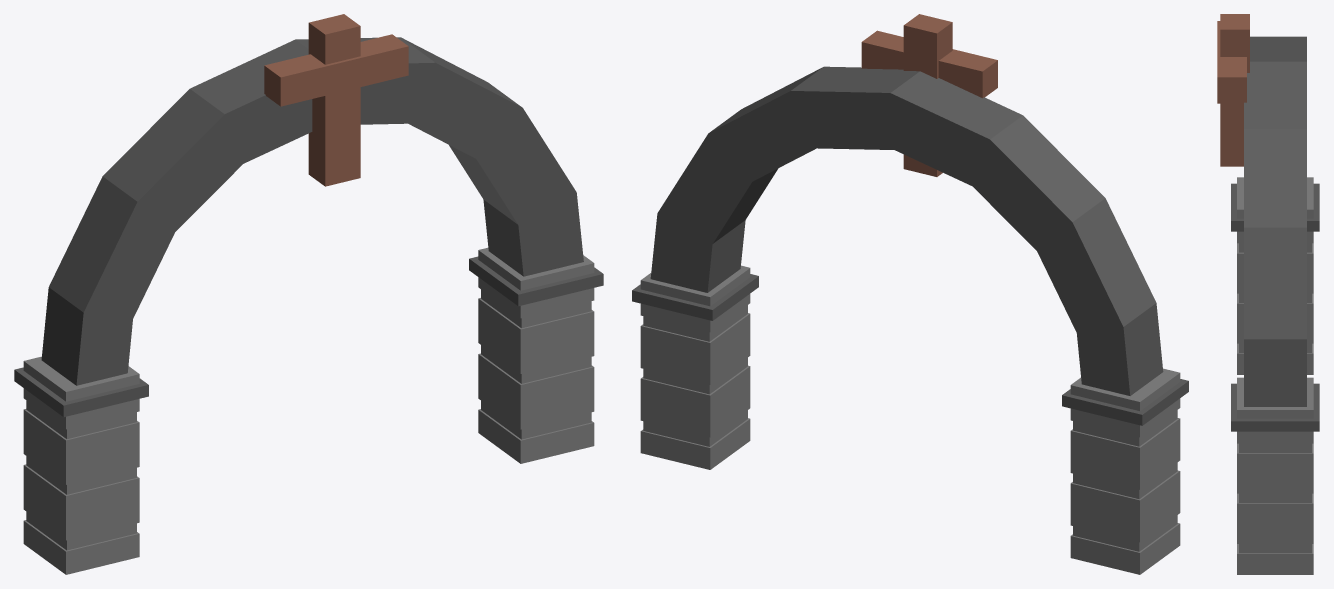
The model's file is entrada.fbx.
3 renders of one model, left to right at view 1: azimuth 30°, elevation 25°; view 2: azimuth 150°, elevation 25°; view 3: azimuth 270°, elevation 25°, orthographic. The views are drawn at different scales.
Visible parts, largest first — view 1: Cylinder, Cube, Cube.002, Cube.004, Cube.005, Cube.001, Cube.003; view 2: Cylinder, Cube, Cube.002, Cube.005, Cube.004, Cube.001, Cube.003; view 3: Cylinder, Cube.002, Cube.004, Cube, Cube.003, Cube.005, Cube.001.
Boxes of the visible parts, bbox=[...] form: Cylinder: bbox=[41, 37, 583, 385]; Cube: bbox=[23, 356, 139, 574]; Cube.002: bbox=[478, 247, 594, 463]; Cube.004: bbox=[308, 14, 360, 186]; Cube.005: bbox=[264, 34, 408, 106]; Cube.001: bbox=[14, 367, 148, 417]; Cube.003: bbox=[469, 256, 603, 306]; Cylinder: bbox=[650, 66, 1163, 395]; Cube: bbox=[1070, 368, 1180, 574]; Cube.002: bbox=[640, 265, 750, 469]; Cube.005: bbox=[861, 30, 997, 98]; Cube.004: bbox=[903, 14, 952, 176]; Cube.001: bbox=[1062, 379, 1188, 425]; Cube.003: bbox=[632, 274, 758, 320]; Cylinder: bbox=[1244, 36, 1306, 406]; Cube.002: bbox=[1237, 377, 1313, 574]; Cube.004: bbox=[1220, 14, 1249, 166]; Cube: bbox=[1237, 177, 1313, 374]; Cube.003: bbox=[1231, 383, 1319, 431]; Cube.005: bbox=[1217, 21, 1246, 103]; Cube.001: bbox=[1231, 183, 1319, 231].
Size of the model in its own units: 452 by 389 by 82.41.
